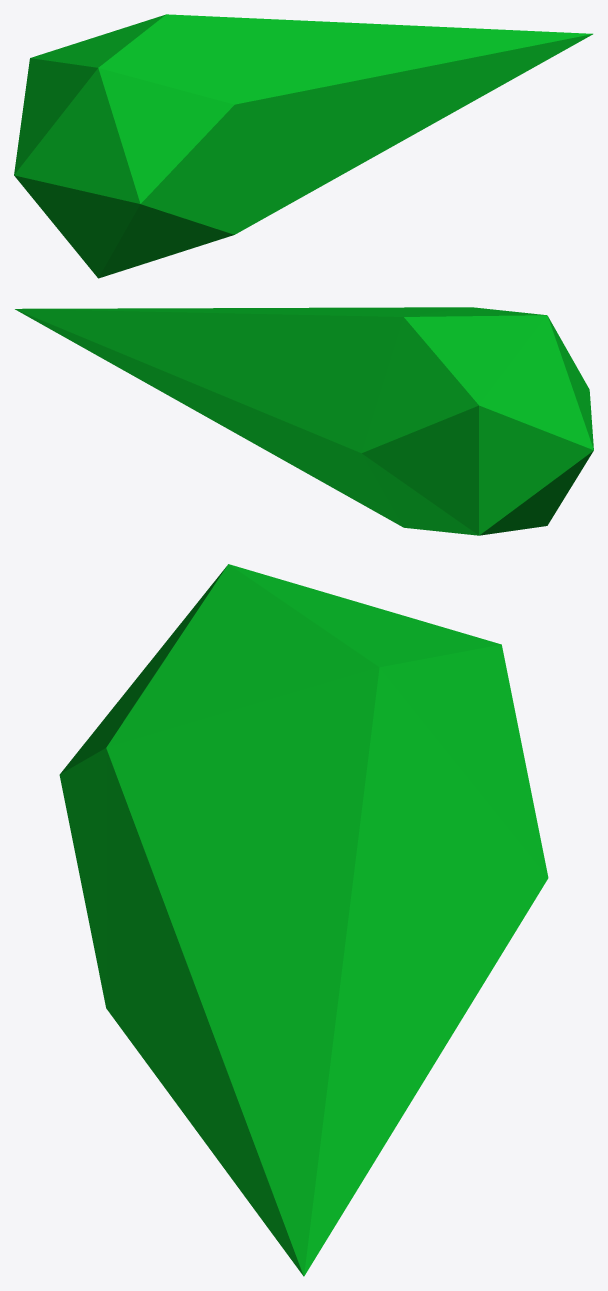
The picture shows the model from 3 angles, top to bottom: view 1: azimuth 30°, elevation 25°; view 2: azimuth 150°, elevation 25°; view 3: azimuth 270°, elevation 25°; orthographic projection. The views are drawn at different scales.
Parts seen in each view (by area): view 1: Icosphere; view 2: Icosphere; view 3: Icosphere.
Part boxes in pixels (x1=…): Icosphere: x1=14, y1=14, x2=592, y2=278; Icosphere: x1=15, y1=307, x2=593, y2=535; Icosphere: x1=59, y1=564, x2=548, y2=1276.
Bounding box in the file's own units: 4.9 × 1.7 × 1.79.
